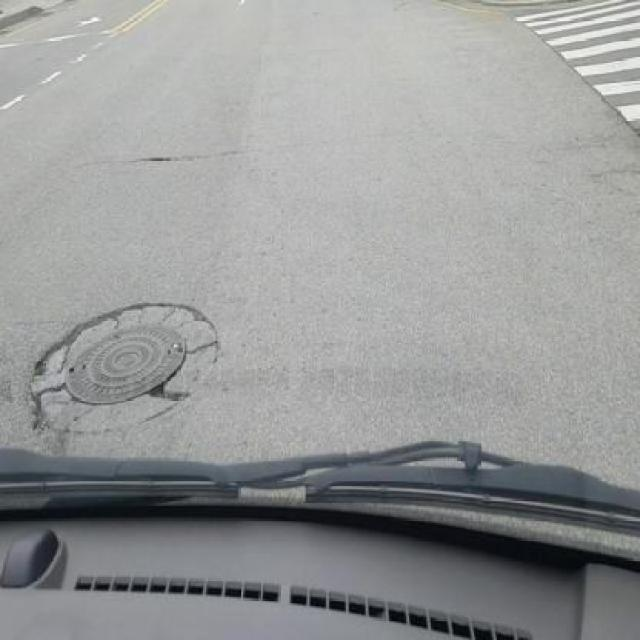Manhole: (24, 295, 221, 437)
